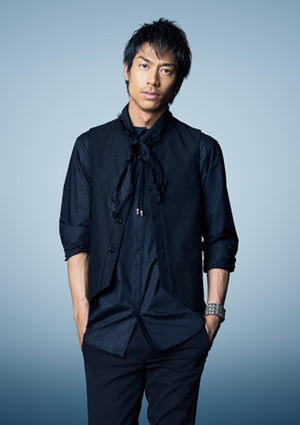bad: (129, 49, 181, 101)
